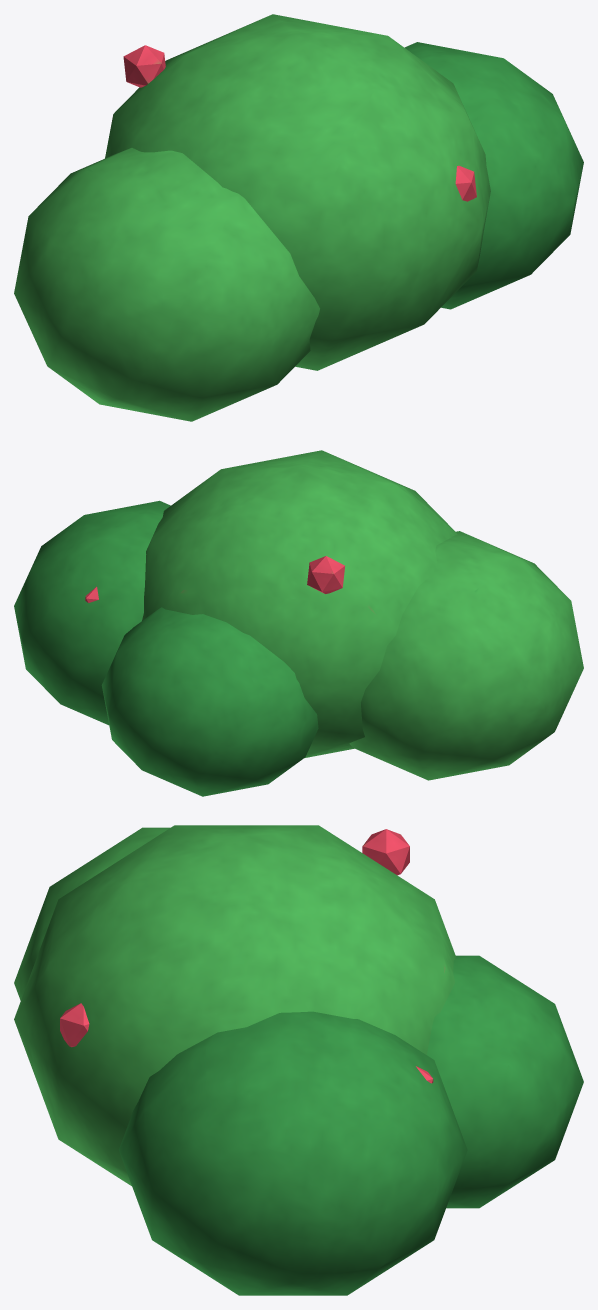
File: bush.fbx
The picture shows the model from 3 angles, top to bottom: view 1: azimuth 30°, elevation 25°; view 2: azimuth 150°, elevation 25°; view 3: azimuth 270°, elevation 25°; orthographic projection. The views are drawn at different scales.
Parts seen in each view (by area): view 1: Bush; view 2: Bush; view 3: Bush.
Boxes of the visible parts, box(x1,y1,x2,y2) form: Bush: box(14, 14, 583, 421); Bush: box(14, 450, 583, 796); Bush: box(14, 825, 583, 1295).
Size of the model in its own units: 3.17 by 1.73 by 2.45.
1 material, 1 textured.
